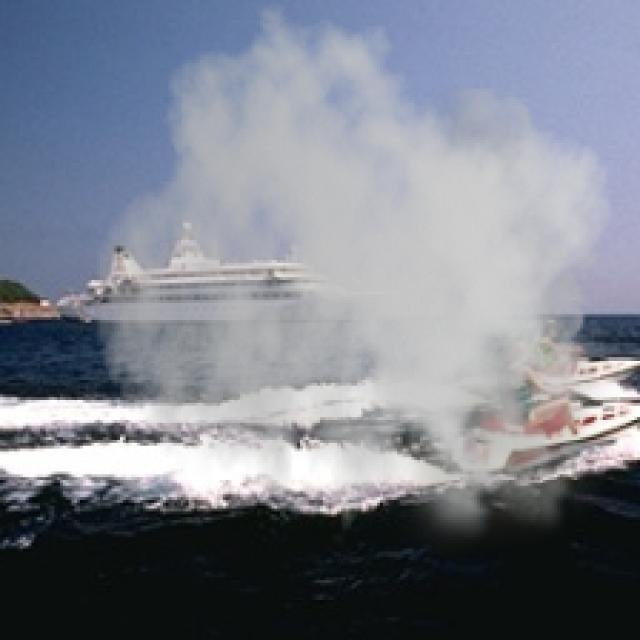Smoke: (94, 3, 629, 566)
